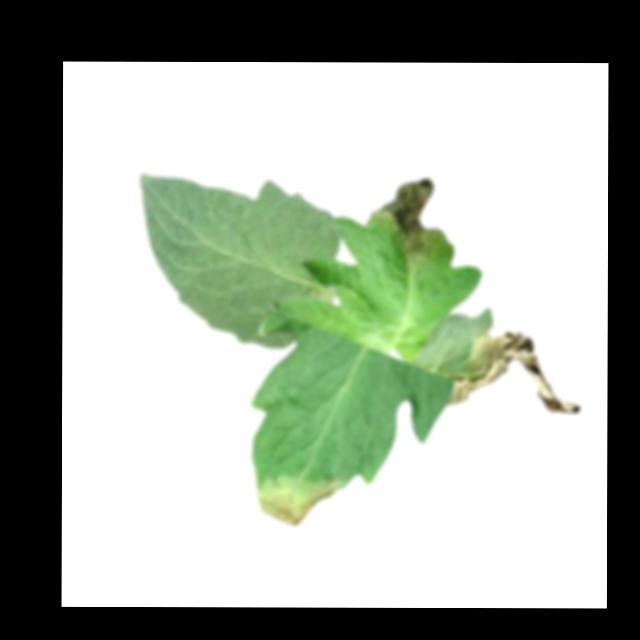Late_blight: (442, 329, 582, 413), (365, 176, 445, 268), (250, 471, 344, 525)
healthy: (136, 172, 342, 350)
